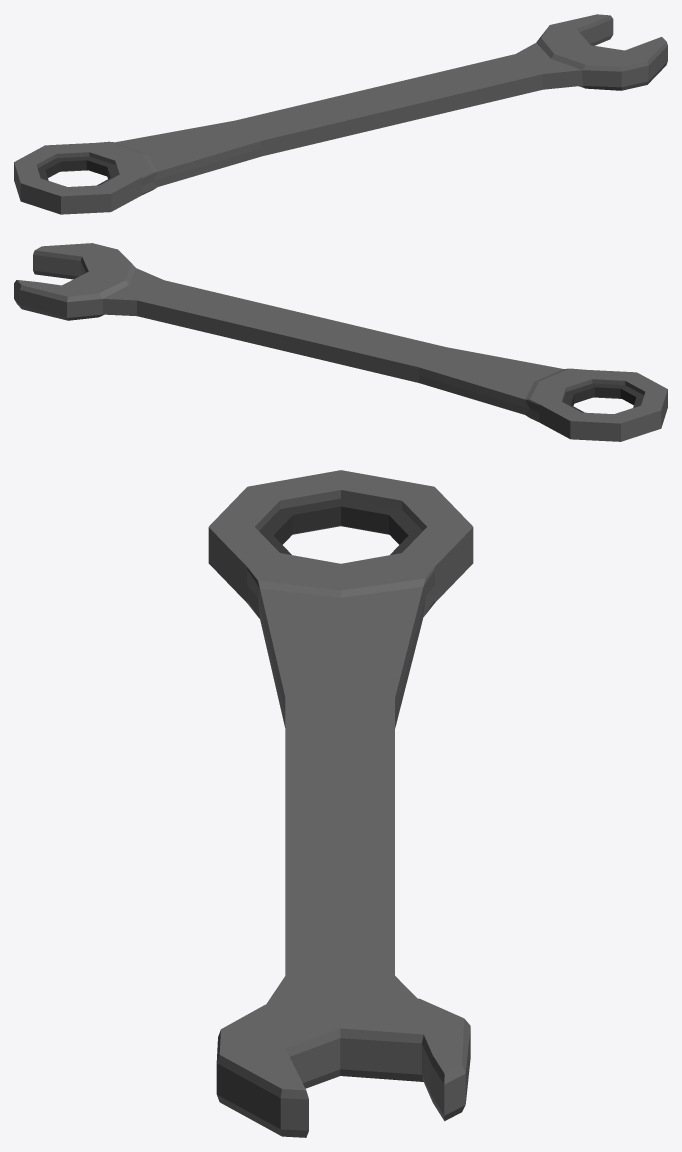
File: Wrench.glb
3 views of the same model, one above another, from view 1: azimuth 30°, elevation 25°; view 2: azimuth 150°, elevation 25°; view 3: azimuth 270°, elevation 25° (orthographic). The views are drawn at different scales.
Parts seen in each view (by area): view 1: Wrench; view 2: Wrench; view 3: Wrench.
Part boxes in pixels (left/top/right/bottom): Wrench: left=14, top=14, right=667, bottom=214; Wrench: left=14, top=243, right=667, bottom=441; Wrench: left=208, top=470, right=473, bottom=1137.
Size of the model in its own units: 0.7037 by 0.0269 by 0.1275.
1 material, 1 textured.
